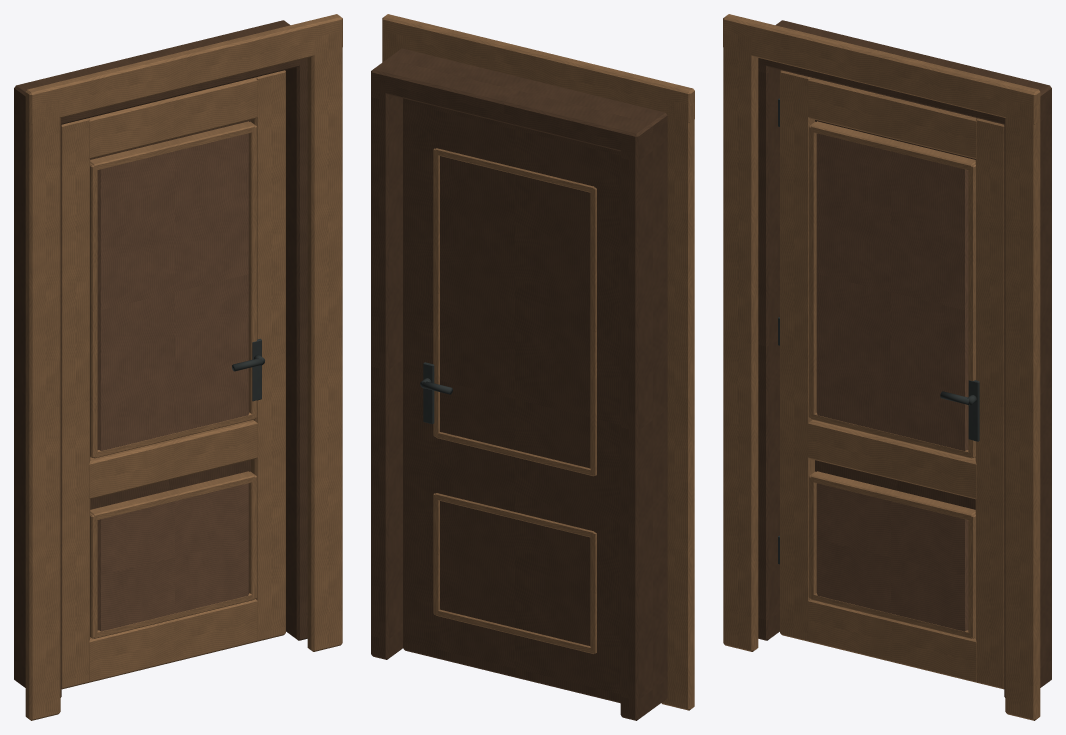
The model's file is door_hinged_090x210.glb.
3 views of the same model, side by side, from view 1: azimuth 30°, elevation 25°; view 2: azimuth 150°, elevation 25°; view 3: azimuth 330°, elevation 25° (orthographic).
Visible parts, largest first — view 1: Door_Leaf, Door_frame; view 2: Door_Leaf, Door_frame; view 3: Door_Leaf, Door_frame.
Part boxes in pixels (bbox=[...]): Door_Leaf: bbox=[61, 70, 285, 689]; Door_frame: bbox=[14, 14, 342, 720]; Door_Leaf: bbox=[403, 98, 620, 703]; Door_frame: bbox=[371, 14, 694, 720]; Door_Leaf: bbox=[778, 70, 1004, 689]; Door_frame: bbox=[723, 14, 1051, 720].
Size of the model in its own units: 1.2 by 2.3 by 0.2565.
Materials: 4 (4 with a texture image).
